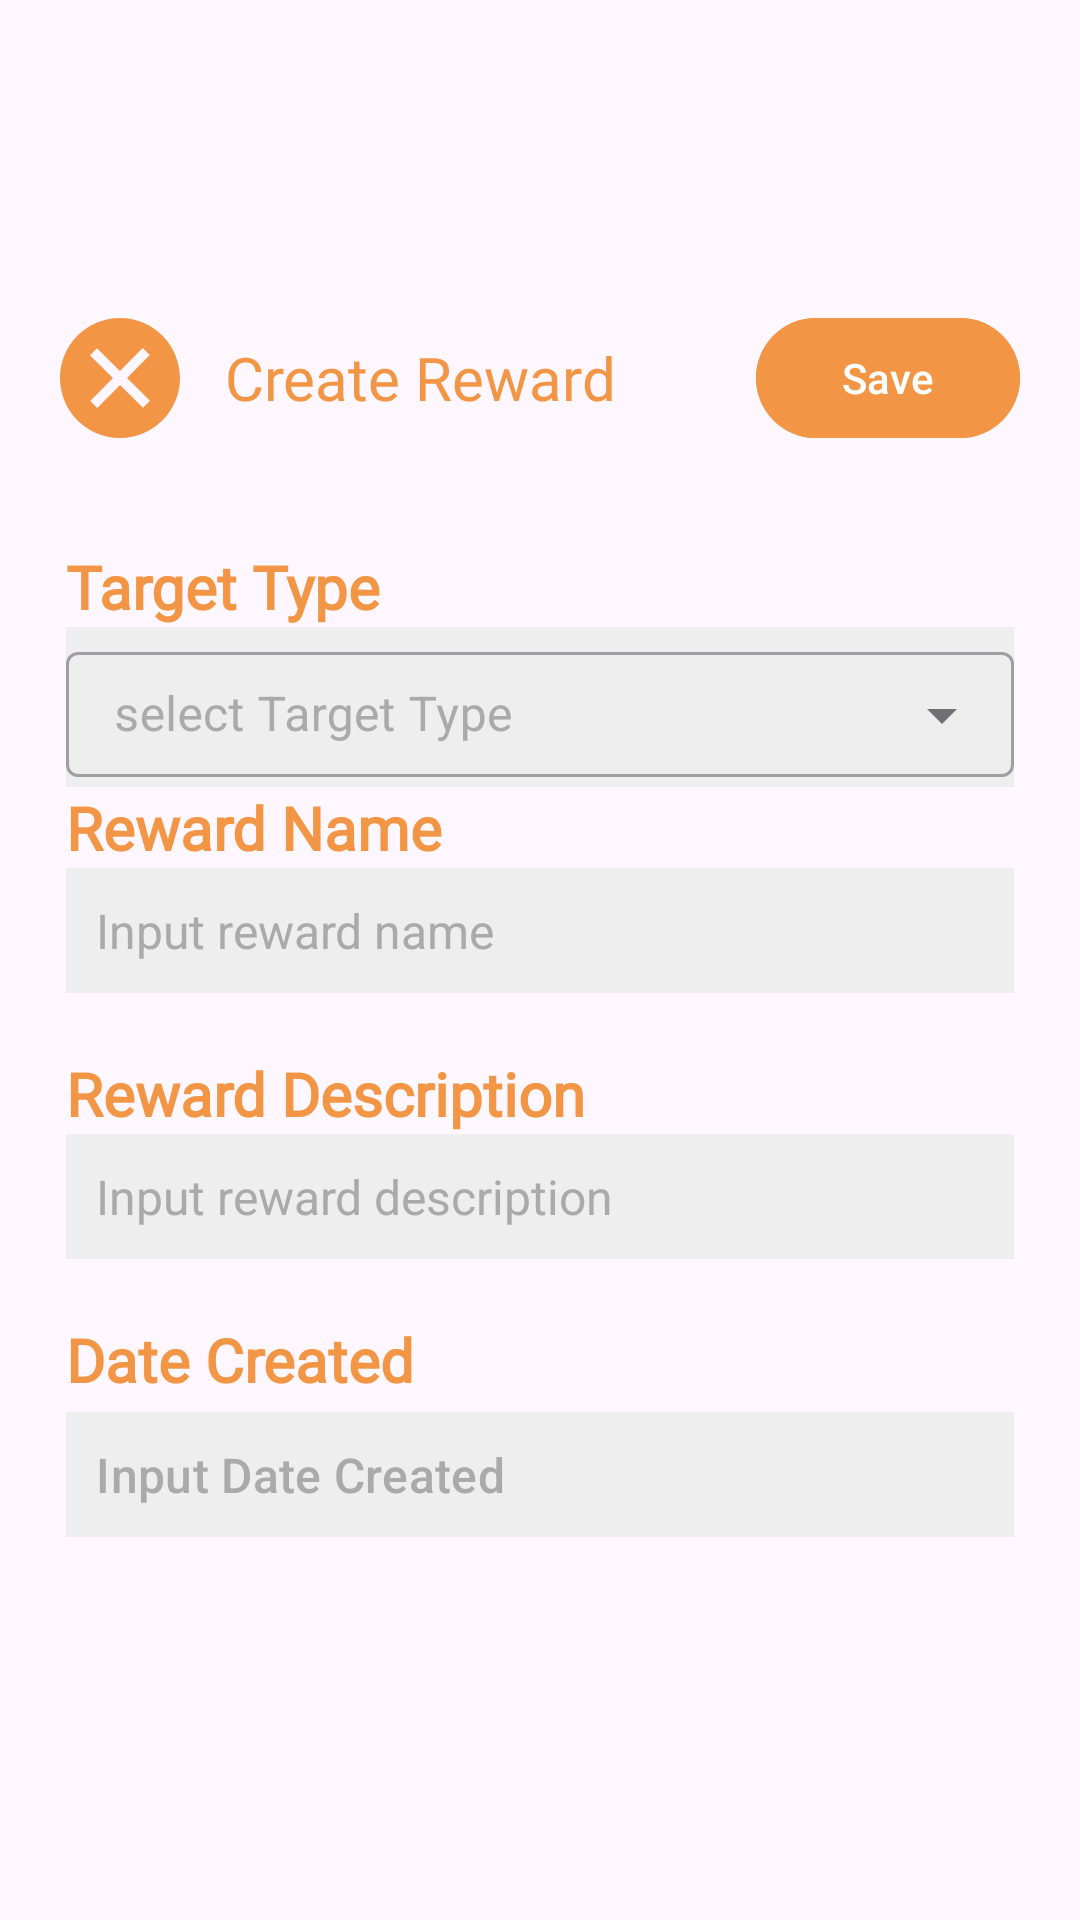

Named icons in this screenshot (1080*1920) and their bounding boxes, (x1, y1, x2, y2):
Exit creating a task: (60, 318, 180, 438)
